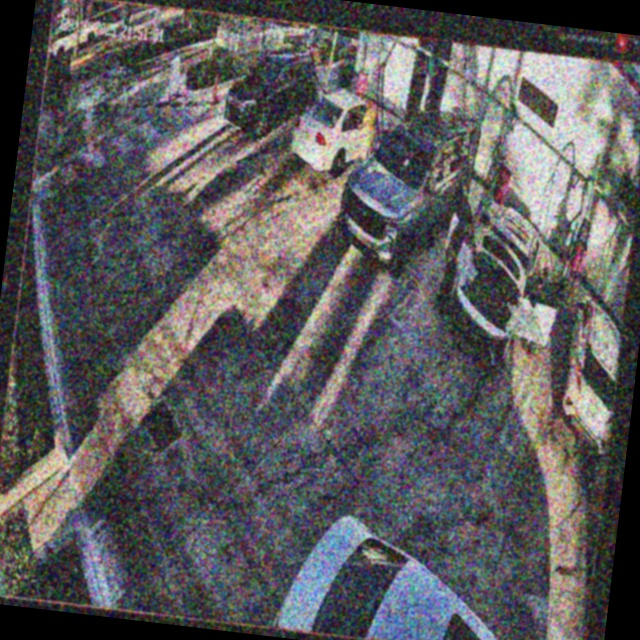Car: (336, 103, 479, 281), (443, 195, 557, 371), (290, 83, 395, 178)
